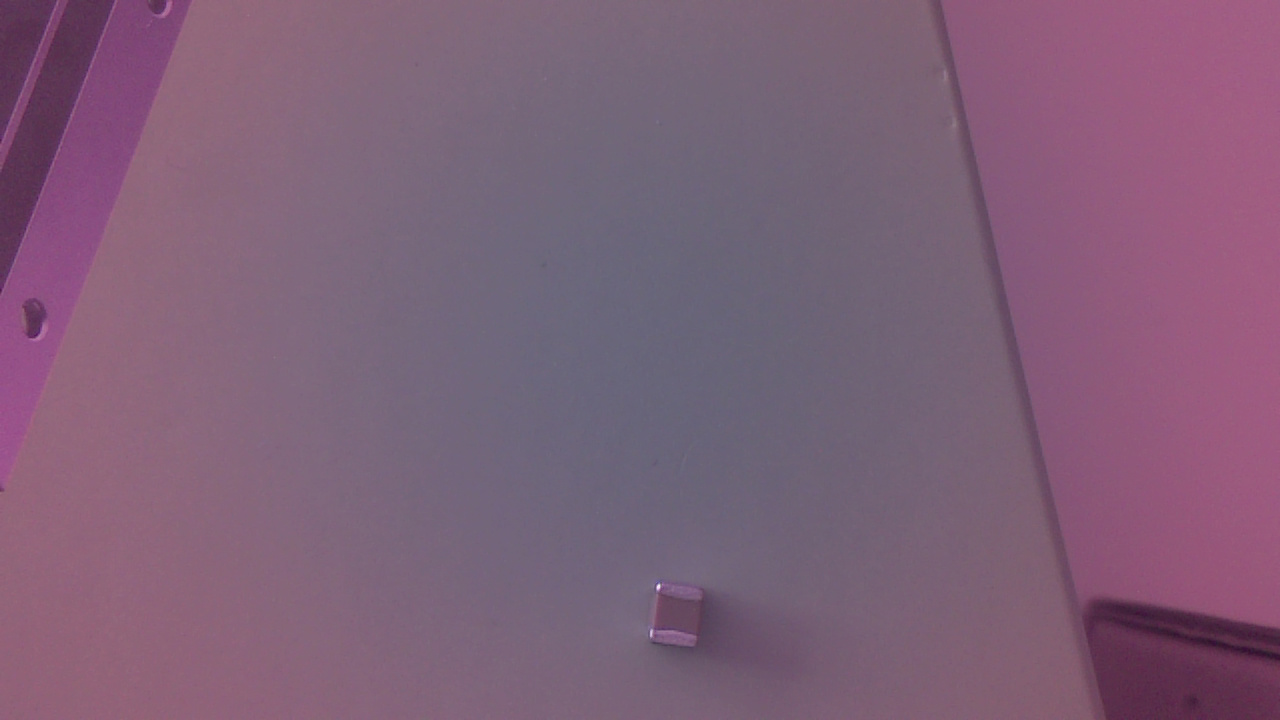Condensator: (648, 582, 720, 657)
